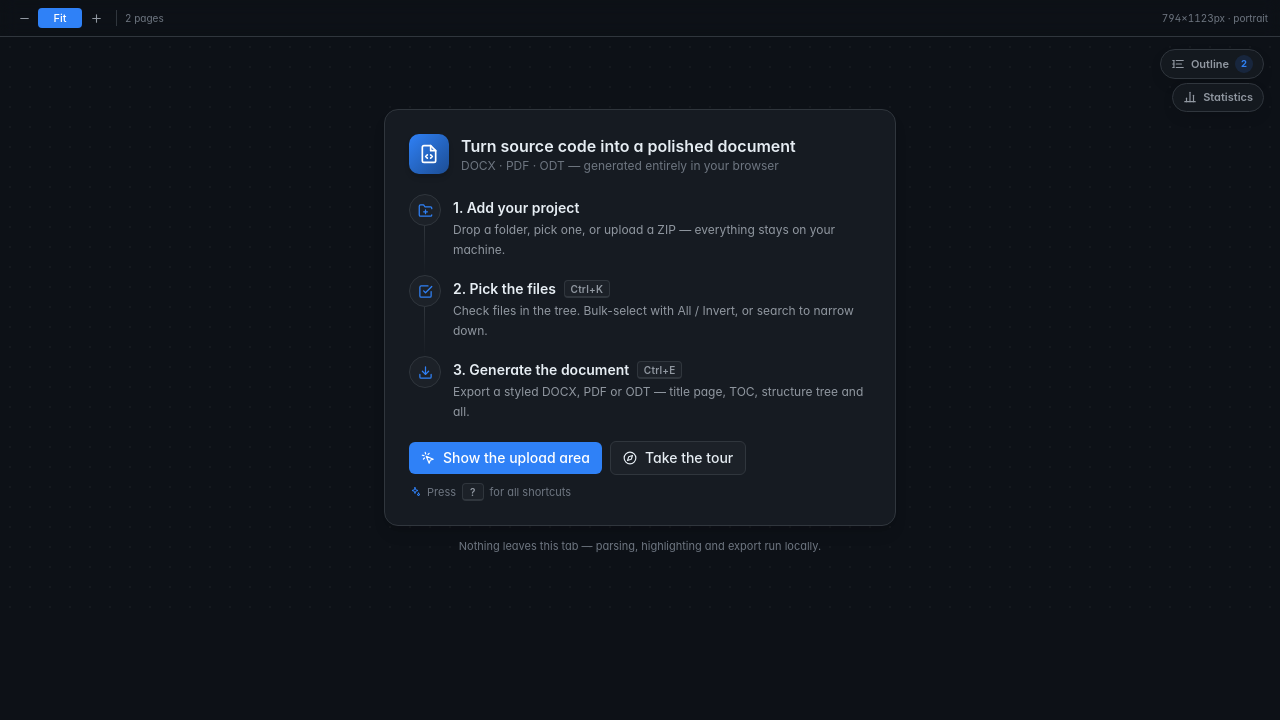
document preview structure (§1/§2/§5) › zoom in/out steps the label and Fit restores it (§5)
Expected: the button titled "Fit to width" is shown, [38,8,82,28]
Click the button named "Zoom in" at point(96, 18), box [84,6,108,30]
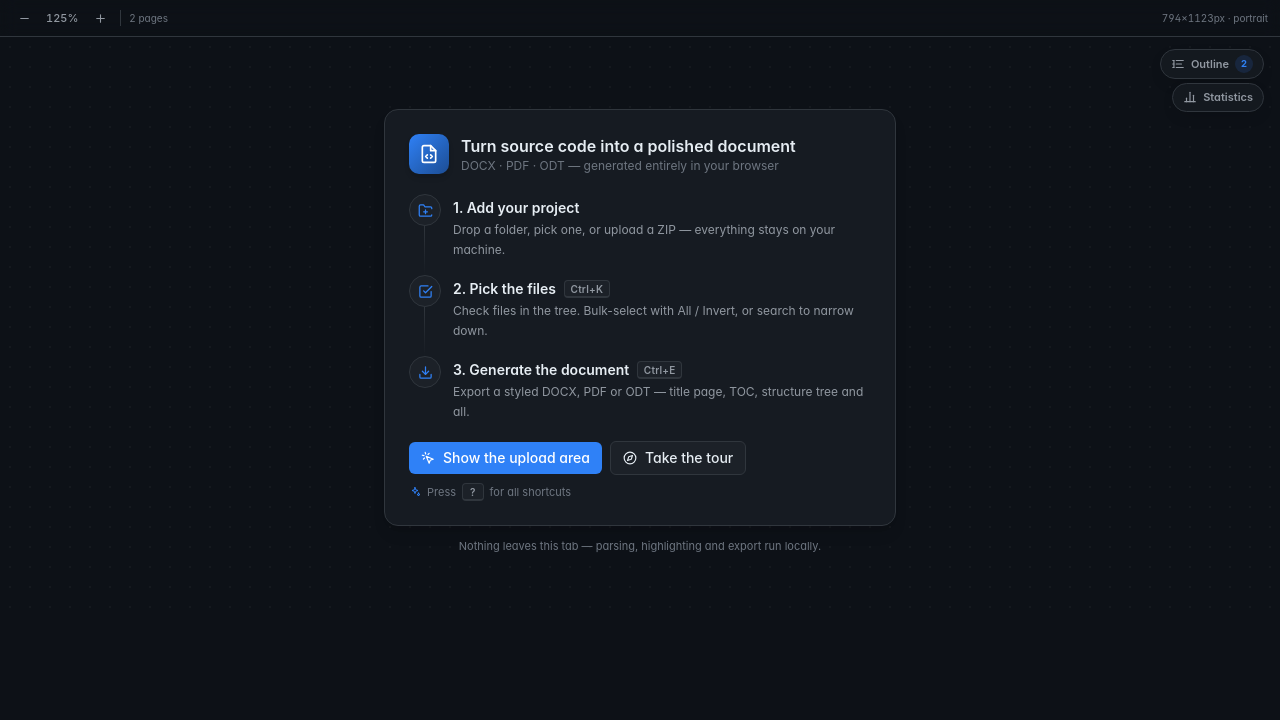
Expected: the button titled "Fit to width" reads "125%", [38,8,86,28]
Click the button named "Zoom in" at point(100, 18), box [88,6,112,30]
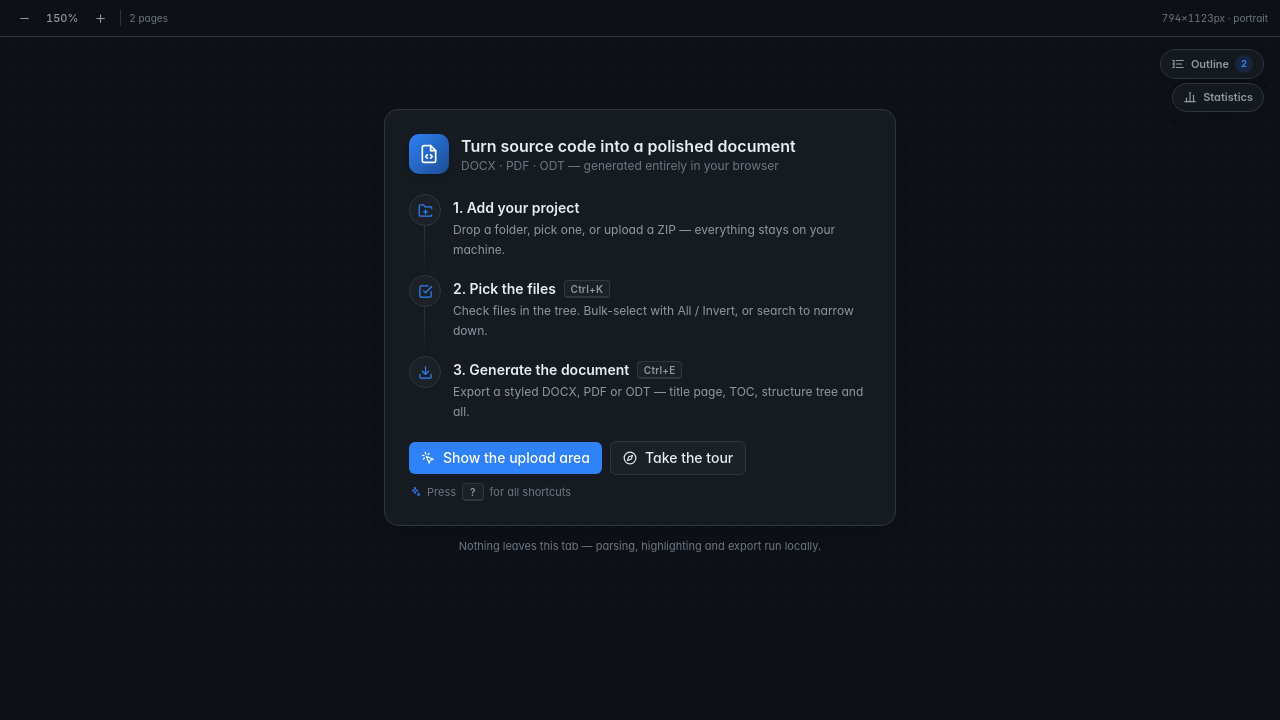
Expected: the button titled "Fit to width" reads "150%", [38,8,86,28]
Click the button named "Zoom out" at point(24, 18), box [12,6,36,30]
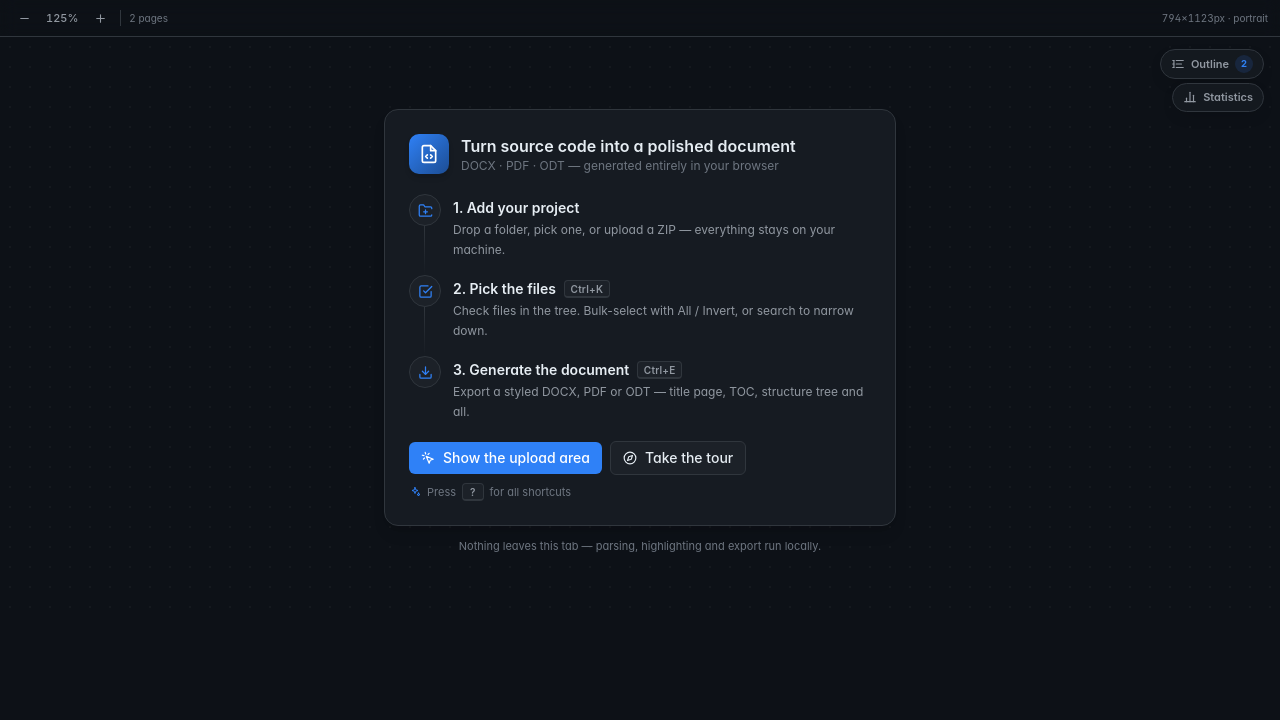
Click the button named "Zoom out" at point(24, 18), box [12,6,36,30]
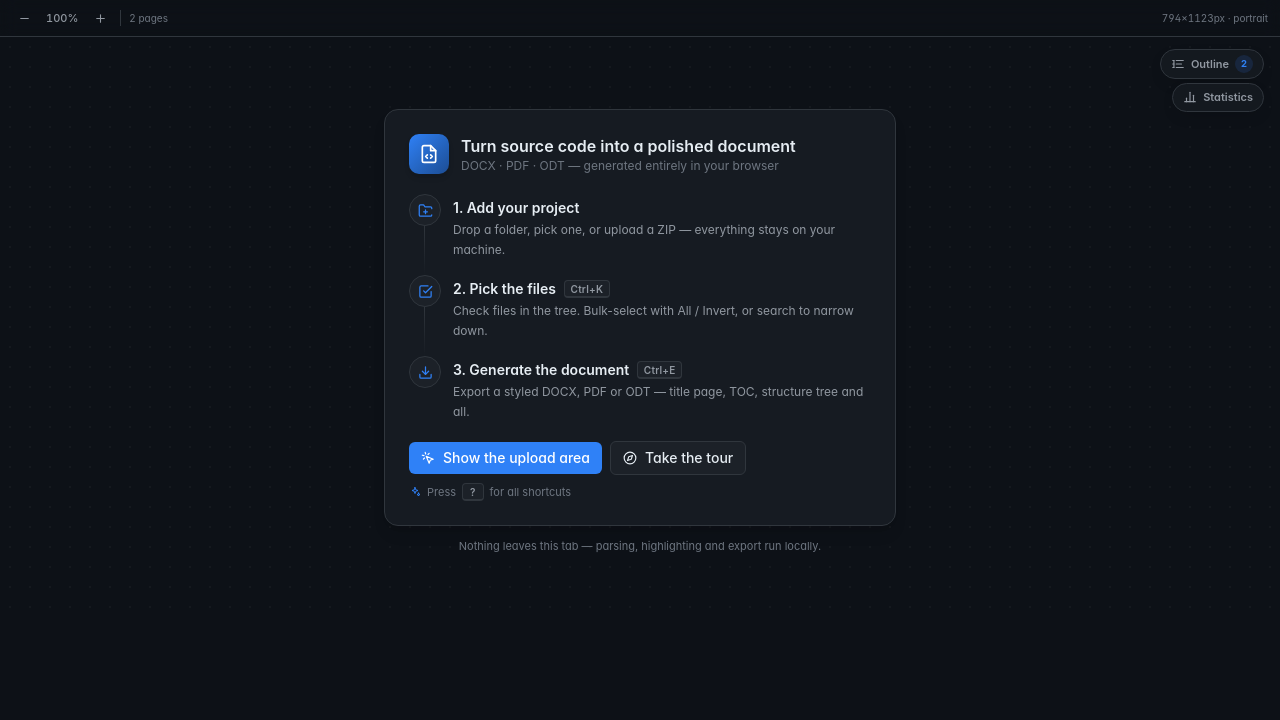
Expected: the button titled "Fit to width" reads "100%"
Click the button titled "Fit to width" at point(62, 18), box [38,8,86,28]
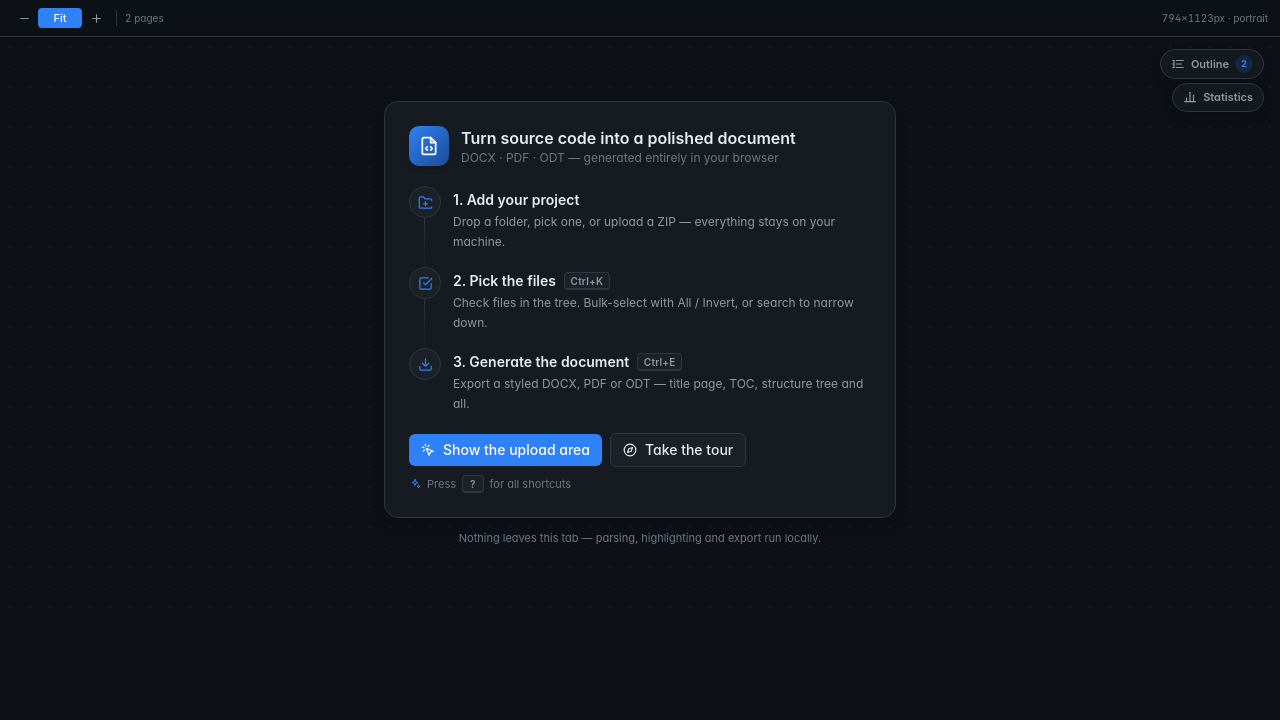
Expected: the button titled "Fit to width" is shown, [38,8,82,28]
